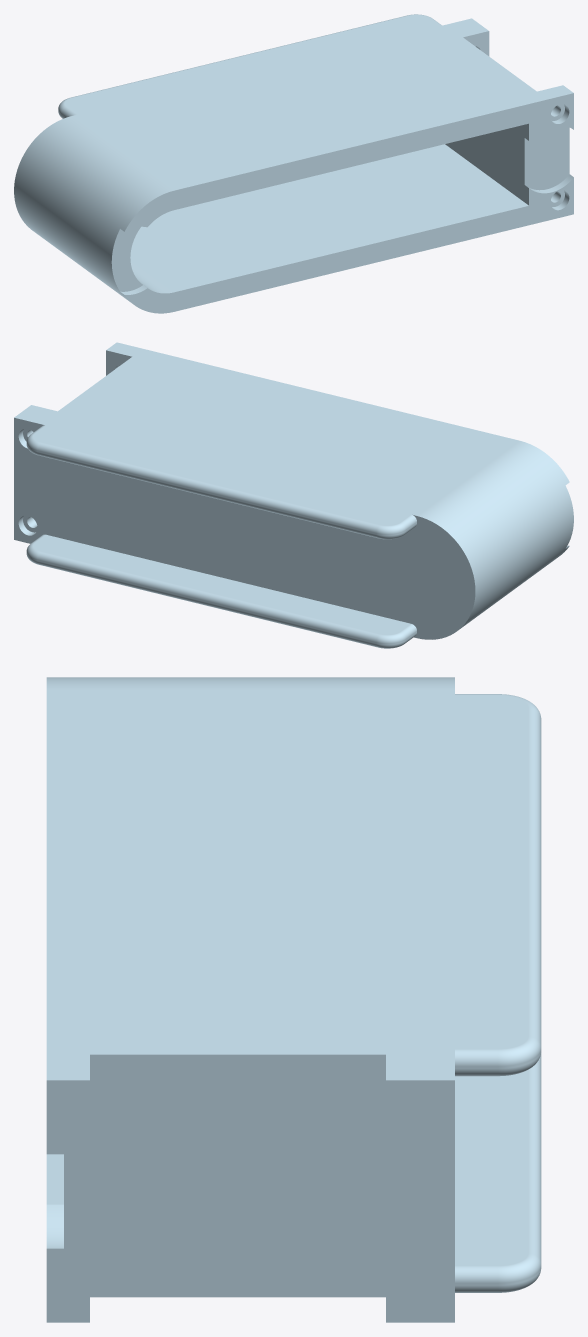
The model's file is _MfgOCFQSaiTe_sQ0m.gltf.
3 views of the same model, one above another, from view 1: azimuth 30°, elevation 25°; view 2: azimuth 150°, elevation 25°; view 3: azimuth 270°, elevation 25° (orthographic). The views are drawn at different scales.
Visible parts, largest first — view 1: SnakeTail; view 2: SnakeTail; view 3: SnakeTail.
Boxes of the visible parts, x1,y1,x2,y2 form: SnakeTail: (14, 14, 573, 313); SnakeTail: (14, 342, 573, 648); SnakeTail: (46, 677, 541, 1322).
Size of the model in its own units: 0.1225 by 0.031 by 0.0573.
